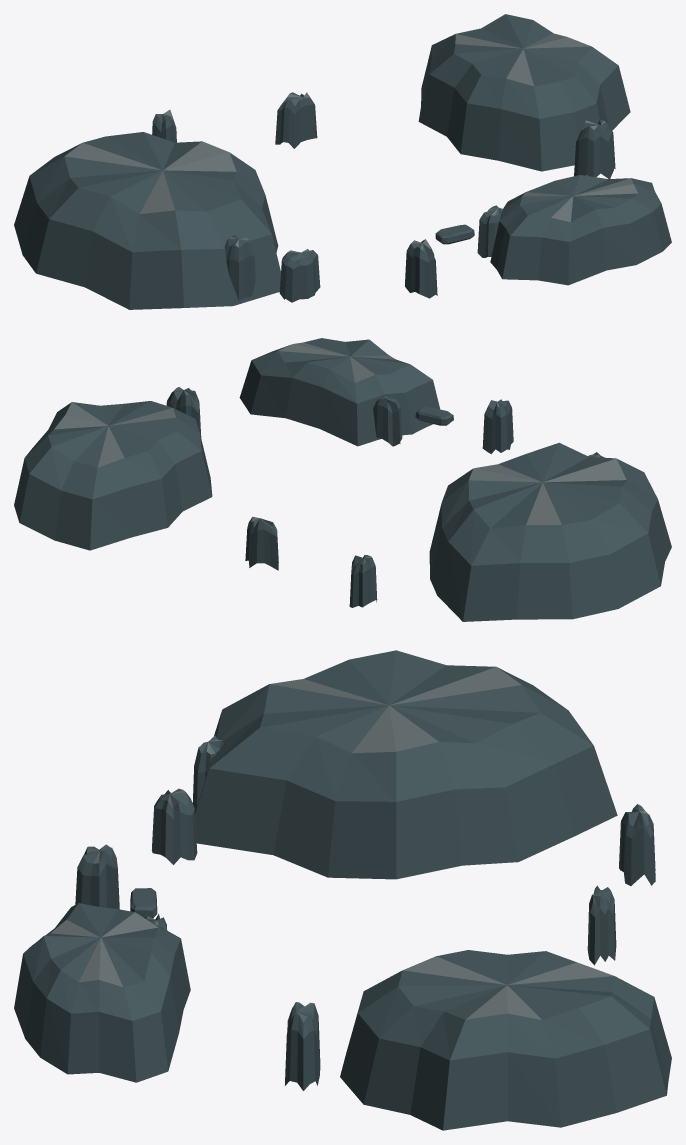
Rendered from basalt-v1.glb.
The picture shows the model from 3 angles, top to bottom: view 1: azimuth 30°, elevation 25°; view 2: azimuth 150°, elevation 25°; view 3: azimuth 270°, elevation 25°; orthographic projection. The views are drawn at different scales.
Parts seen in each view (by area): view 1: basalt-v1; view 2: basalt-v1; view 3: basalt-v1.
Boxes of the visible parts, x1,y1,x2,y2 form: basalt-v1: (14,14,671,309); basalt-v1: (14,338,671,621); basalt-v1: (14,650,671,1130).
Size of the model in its own units: 51.73 by 6.83 by 35.45.
